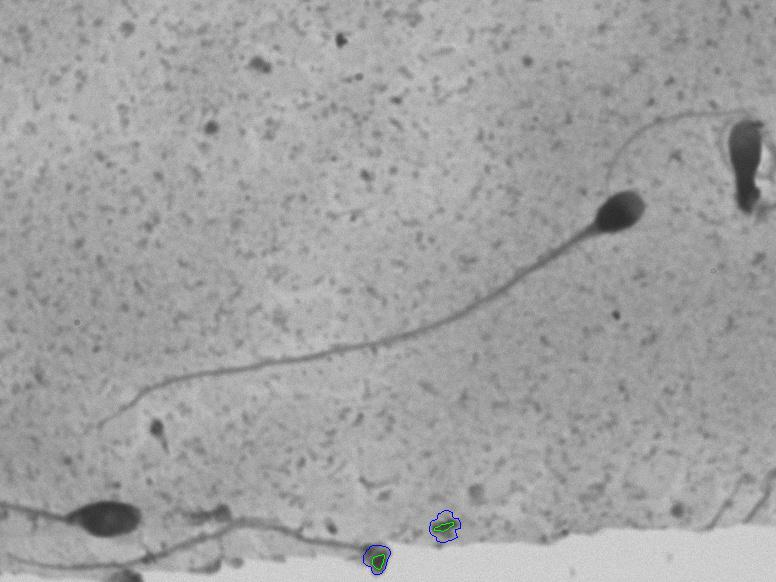Normal: (86, 157, 650, 441)
